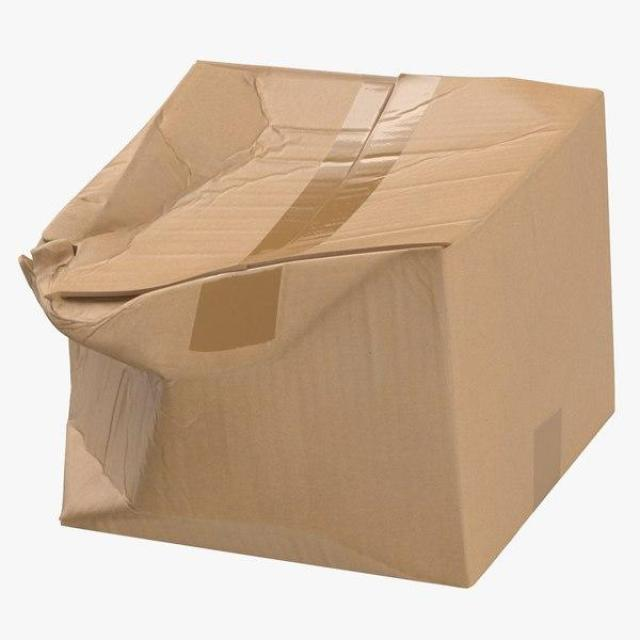Garbage: (12, 44, 624, 602)
